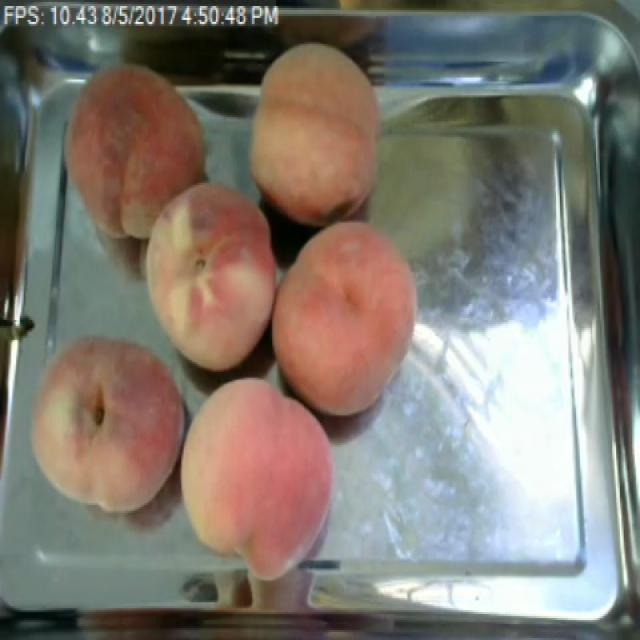Fruit: (163, 368, 348, 592), (13, 322, 199, 529), (272, 211, 428, 427), (52, 52, 220, 252), (132, 169, 281, 382), (236, 34, 393, 230)
